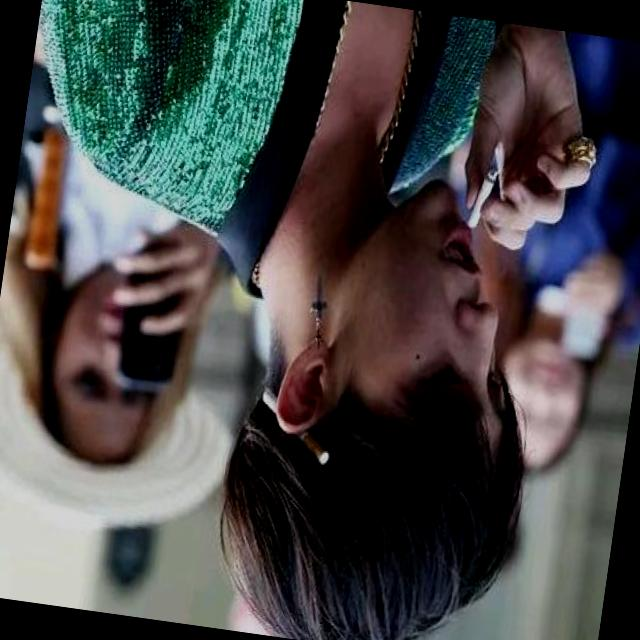smoke: (231, 368, 350, 481), (454, 142, 509, 262)
